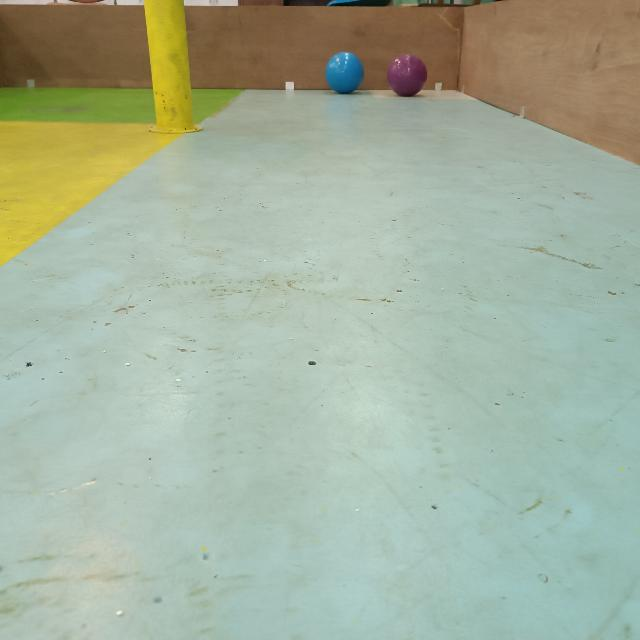B: (325, 51, 365, 95)
P: (386, 54, 428, 98)
